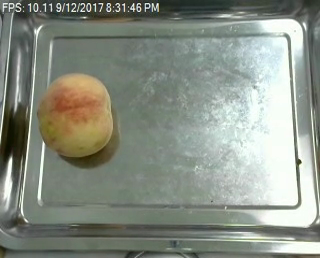Peach: (38, 71, 114, 158)
